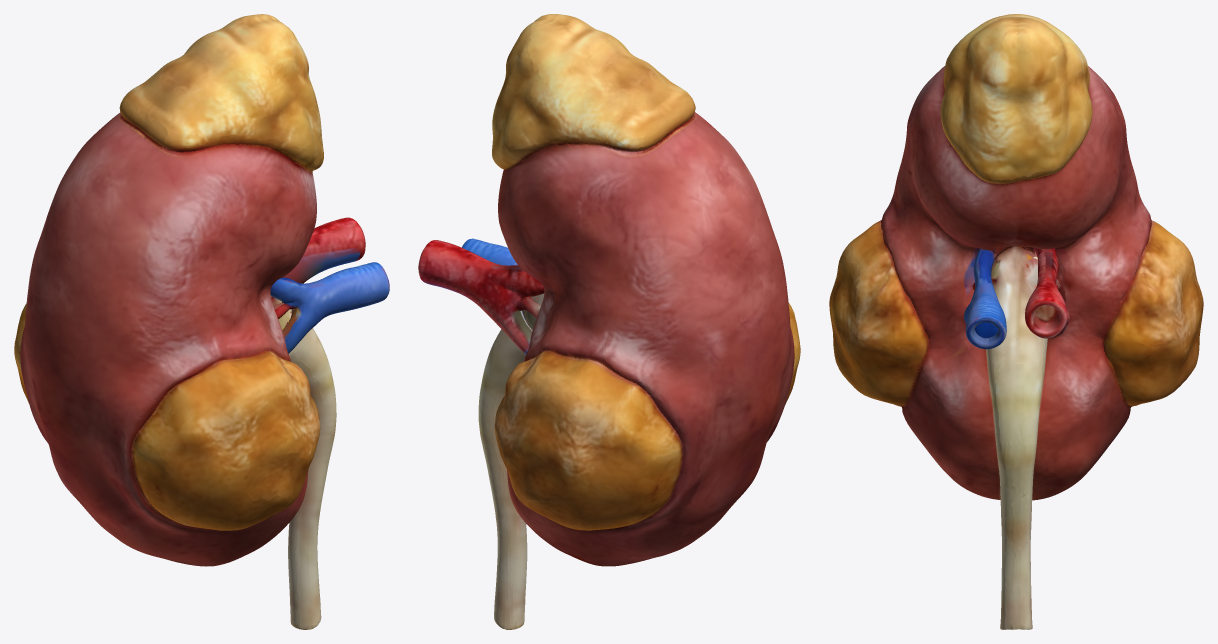
File: 02-complete.glb
3 views of the same model, side by side, from view 1: azimuth 30°, elevation 25°; view 2: azimuth 150°, elevation 25°; view 3: azimuth 270°, elevation 25° (orthographic). The views are drawn at different scales.
Parts seen in each view (by area): view 1: geometry_0; view 2: geometry_0; view 3: geometry_0.
Boxes of the visible parts, x1,y1,x2,y2 form: geometry_0: (14,14,389,629); geometry_0: (418,14,800,629); geometry_0: (829,14,1203,629).
Size of the model in its own units: 0.5569 by 1 by 0.581.
Materials: 1 (1 with a texture image).
